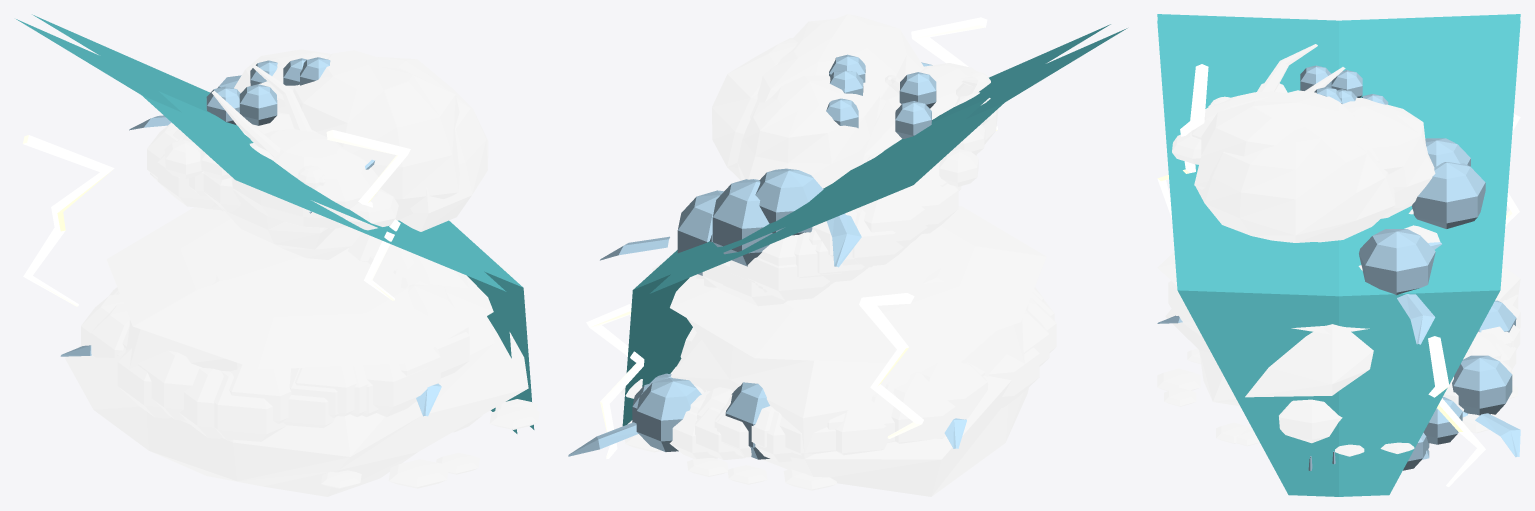
File: maitre-archipel-v5-leger.glb
The picture shows the model from 3 angles, left to right: view 1: azimuth 30°, elevation 25°; view 2: azimuth 150°, elevation 25°; view 3: azimuth 270°, elevation 25°; orthographic projection. The views are drawn at different scales.
Visible parts, largest first — view 1: maitre_archipel_ilot.001, maitre_archipel_corps.001, maitre_archipel_ilot_lueur, maitre_archipel_lumieres, maitre_archipel_eclairs_lueur; view 2: maitre_archipel_ilot.001, maitre_archipel_corps.001, maitre_archipel_lumieres, maitre_archipel_ilot_lueur, maitre_archipel_eclairs_lueur; view 3: maitre_archipel_ilot_lueur, maitre_archipel_ilot.001, maitre_archipel_lumieres, maitre_archipel_corps.001, maitre_archipel_eclairs_lueur.
Boxes of the visible parts, left/top/right/bottom form: maitre_archipel_ilot.001: left=65, top=49, right=528, bottom=496; maitre_archipel_corps.001: left=81, top=64, right=539, bottom=488; maitre_archipel_ilot_lueur: left=16, top=14, right=534, bottom=433; maitre_archipel_lumieres: left=60, top=57, right=441, bottom=416; maitre_archipel_eclairs_lueur: left=22, top=130, right=410, bottom=306; maitre_archipel_ilot.001: left=652, top=14, right=1046, bottom=496; maitre_archipel_corps.001: left=620, top=63, right=1056, bottom=490; maitre_archipel_lumieres: left=568, top=54, right=966, bottom=459; maitre_archipel_ilot_lueur: left=622, top=24, right=1127, bottom=425; maitre_archipel_eclairs_lueur: left=586, top=17, right=997, bottom=458; maitre_archipel_ilot_lueur: left=1157, top=14, right=1520, bottom=496; maitre_archipel_ilot.001: left=1157, top=90, right=1520, bottom=406; maitre_archipel_lumieres: left=1157, top=65, right=1520, bottom=471; maitre_archipel_corps.001: left=1157, top=44, right=1520, bottom=456; maitre_archipel_eclairs_lueur: left=1157, top=64, right=1520, bottom=486.
Bounding box in the file's own units: 2 × 2 × 2.
